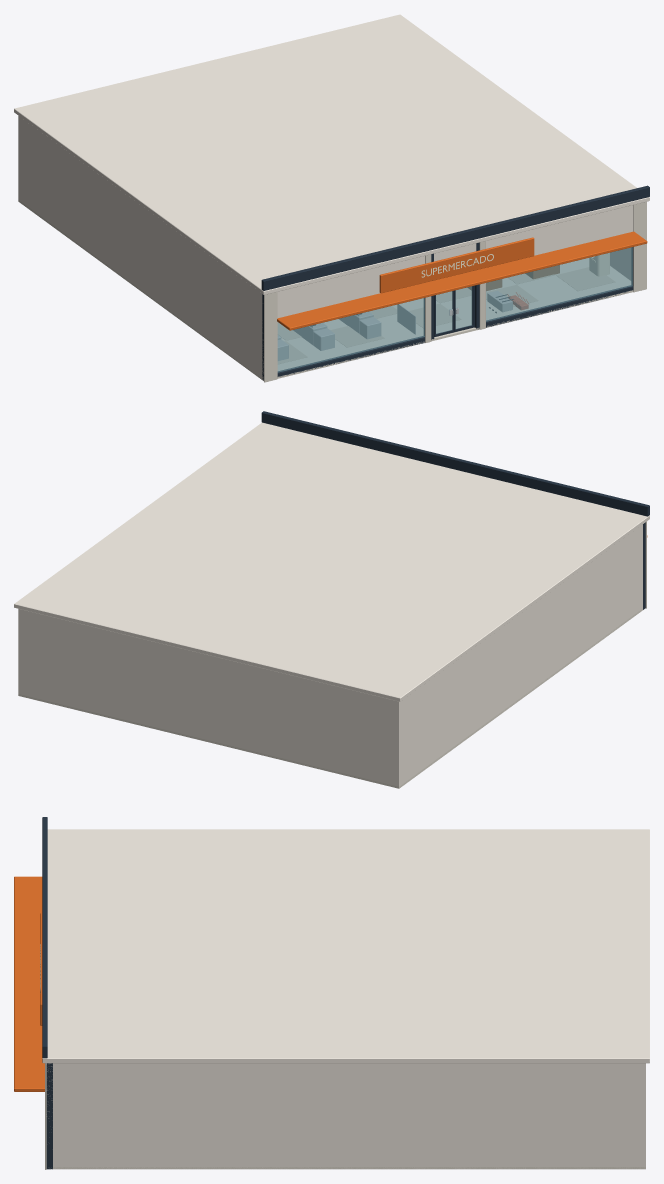
The model's file is Local_Supermercado.fbx.
3 views of the same model, one above another, from view 1: azimuth 30°, elevation 25°; view 2: azimuth 150°, elevation 25°; view 3: azimuth 270°, elevation 25° (orthographic). The views are drawn at different scales.
Visible parts, largest first — view 1: Roof.003, WallSide.005, Floor.002, Storefront.005, Storefront.004, Canopy.003, Parapet.003, FloorTiles.003, StoreTop.005, StoreTop.004, SignBoard.003, Cladding.008 (+5 smaller); view 2: Roof.003, WallBack.003, WallSide.005, Parapet.003, Floor.002; view 3: Roof.003, WallSide.004, Canopy.003, Floor.002, Parapet.003, Pillar.004, WallBack.003.
Boxes of the visible parts, x1,y1,x2,y2 form: Roof.003: [14, 14, 649, 294]; WallSide.005: [18, 116, 263, 380]; Floor.002: [18, 200, 633, 380]; Storefront.005: [277, 298, 424, 372]; Storefront.004: [486, 247, 632, 321]; Canopy.003: [277, 231, 647, 330]; Parapet.003: [261, 185, 649, 290]; FloorTiles.003: [278, 267, 614, 364]; StoreTop.005: [277, 256, 424, 317]; StoreTop.004: [486, 205, 633, 255]; SignBoard.003: [379, 237, 534, 293]; Cladding.008: [264, 292, 277, 382]; Roof.003: [14, 422, 649, 701]; WallBack.003: [18, 609, 401, 788]; WallSide.005: [394, 524, 642, 786]; Parapet.003: [261, 411, 649, 516]; Floor.002: [18, 609, 642, 788]; Roof.003: [42, 829, 649, 1063]; WallSide.004: [47, 1063, 645, 1169]; Canopy.003: [14, 876, 44, 1091]; Floor.002: [51, 1167, 645, 1169]; Parapet.003: [42, 817, 47, 1058]; Pillar.004: [46, 1063, 52, 1169]; WallBack.003: [639, 1063, 645, 1169].
Bounding box in the file's own units: 20.1 × 5.1 × 23.55.
